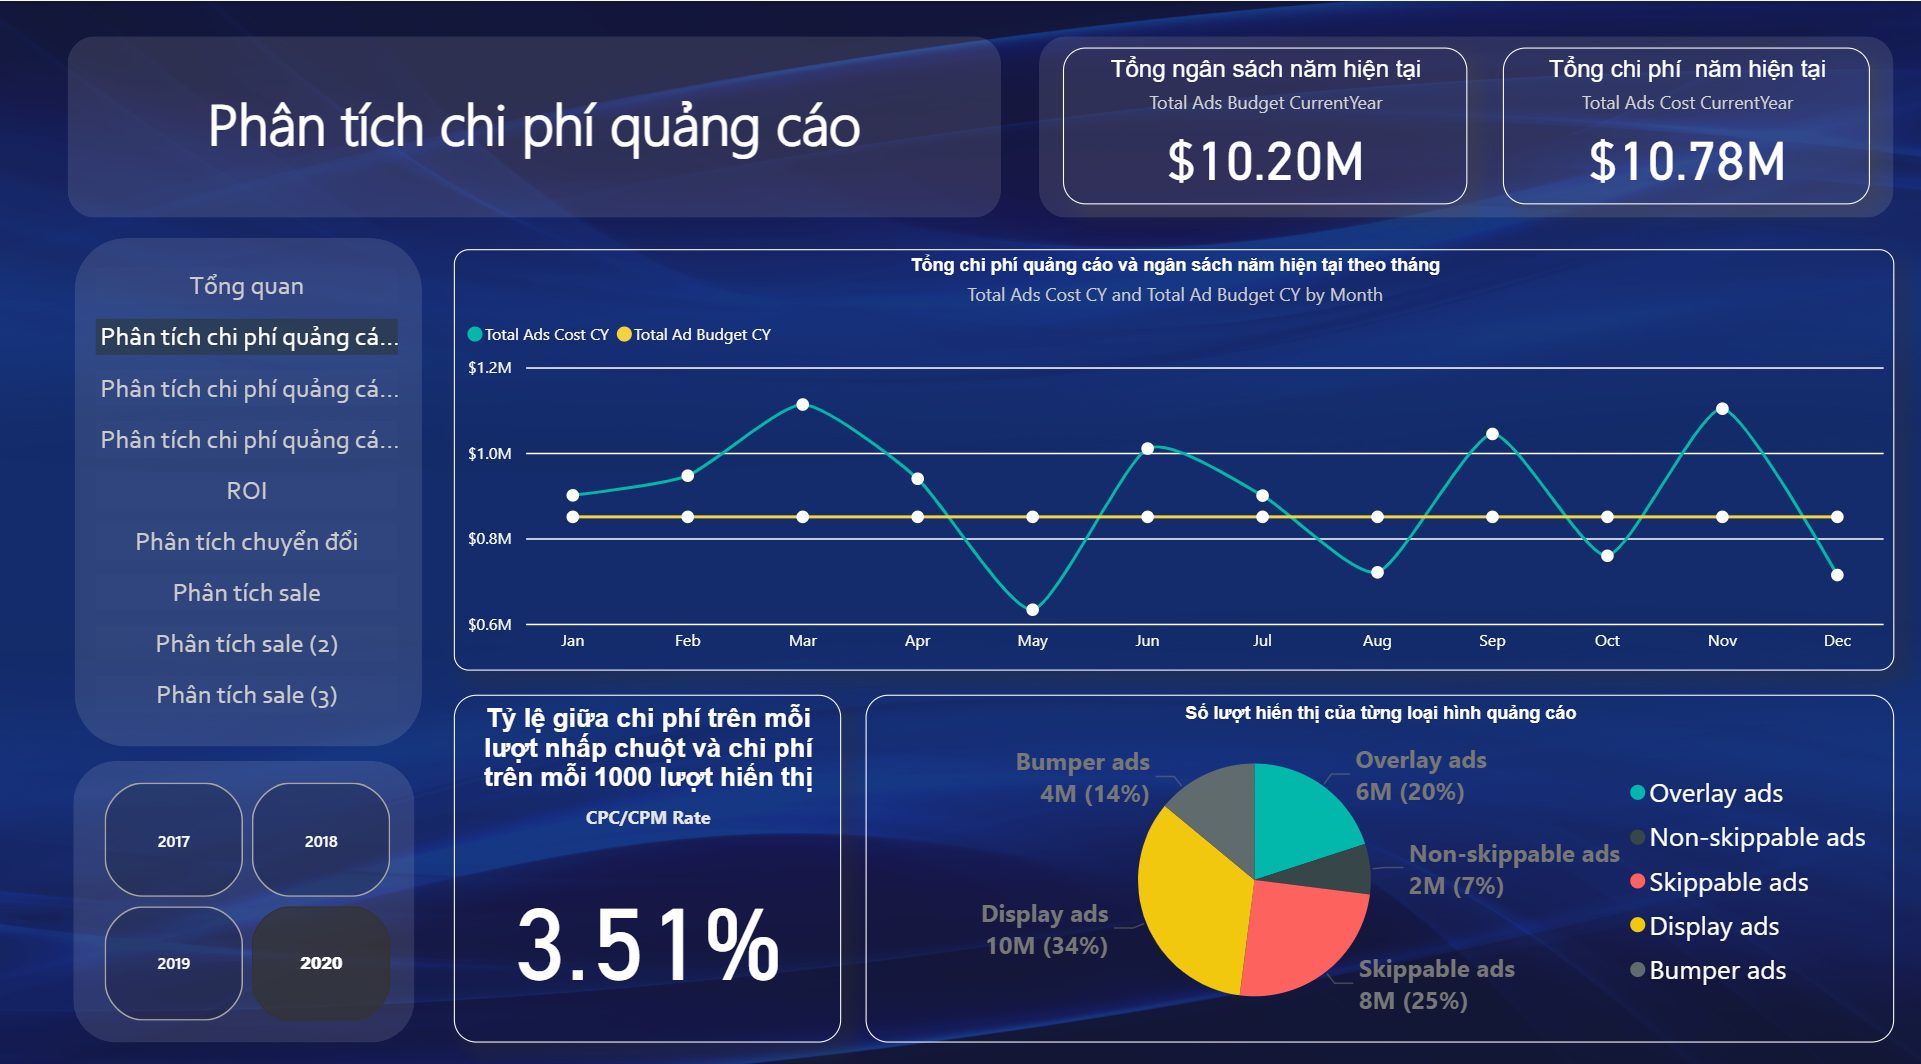

The dashboard page shown, as its layout file describes it:
{"tool":"powerbi","page":{"name":"Phân tích chi phí quảng cáo (1)","canvas":[1280,720],"ordinal":1},"visuals":[{"type":"shape","box":[46.7,23.3,620.5,120.6],"z":0},{"type":"textbox","box":[46.7,50.6,620.5,66.1],"z":1000},{"type":"lineChart","title":"Tổng chi phí quảng cáo và ngân sách năm hiện tại theo tháng","fields":{"Y":["All Measures.Total Ads Cost CY","All Measures.Total Ad Budget CY"],"Category":["Calender.Month"]},"box":[303.3,164.9,957.6,280.2],"z":2000},{"type":"card","title":"Tổng chi phí  năm hiện tại","fields":{"Values":["All Measures.Total Ads Cost CY"]},"box":[1000.9,31.1,244.1,104.1],"z":3000},{"type":"card","title":"Tổng ngân sách năm hiện tại","fields":{"Values":["All Measures.Total Ad Budget CY"]},"box":[708.1,31.1,268.4,104.1],"z":4000},{"type":"shape","box":[692.5,23.3,568,120.6],"z":5000},{"type":"shape","box":[51.1,157.3,230.9,338.1],"z":6000},{"type":"card","title":"Tỷ lệ giữa chi phí trên mỗi lượt nhấp chuột và chi phí trên mỗi 1000 lượt hiển thị","fields":{"Values":["All Measures.CPC/CPM"]},"box":[303.3,461.1,257.1,231.4],"z":7000},{"type":"pageNavigator","box":[65.4,176.7,201.2,300.3],"z":8000},{"type":"shape","box":[50.7,505.6,227,187],"z":9000},{"type":"advancedSlicerVisual","fields":{"Values":["Calender.Year"]},"box":[66.2,514.3,200.7,169.5],"z":10000},{"type":"pieChart","title":"Số lượt hiển thị của từng loại hình quảng cáo","fields":{"Y":["Sum(Data.Overlay ads)","Sum(Data.Non-skippable ads)","Sum(Data.Skippable ads)","Sum(Data.Display ads)","Sum(Data.Bumper ads)"]},"box":[577.2,461.1,683.6,231.4],"z":11000}]}

Visuals, with their boxes in screenshot pixels (x1, y1, x2, y2), scaled from the page's 1280x720 canvas onto the 1921x1064 screenshot:
shape: 70/34/1001/213
textbox: 70/75/1001/172
"Tổng chi phí quảng cáo và ngân sách năm hiện tại theo tháng" lineChart: 455/244/1892/658
"Tổng chi phí  năm hiện tại" card: 1502/46/1868/200
"Tổng ngân sách năm hiện tại" card: 1063/46/1466/200
shape: 1039/34/1892/213
shape: 77/232/423/732
"Tỷ lệ giữa chi phí trên mỗi lượt nhấp chuột và chi phí trên mỗi 1000 lượt hiển thị" card: 455/681/841/1023
pageNavigator: 98/261/400/705
shape: 76/747/417/1024
advancedSlicerVisual - Calender.Year: 99/760/401/1011
"Số lượt hiển thị của từng loại hình quảng cáo" pieChart: 866/681/1892/1023
